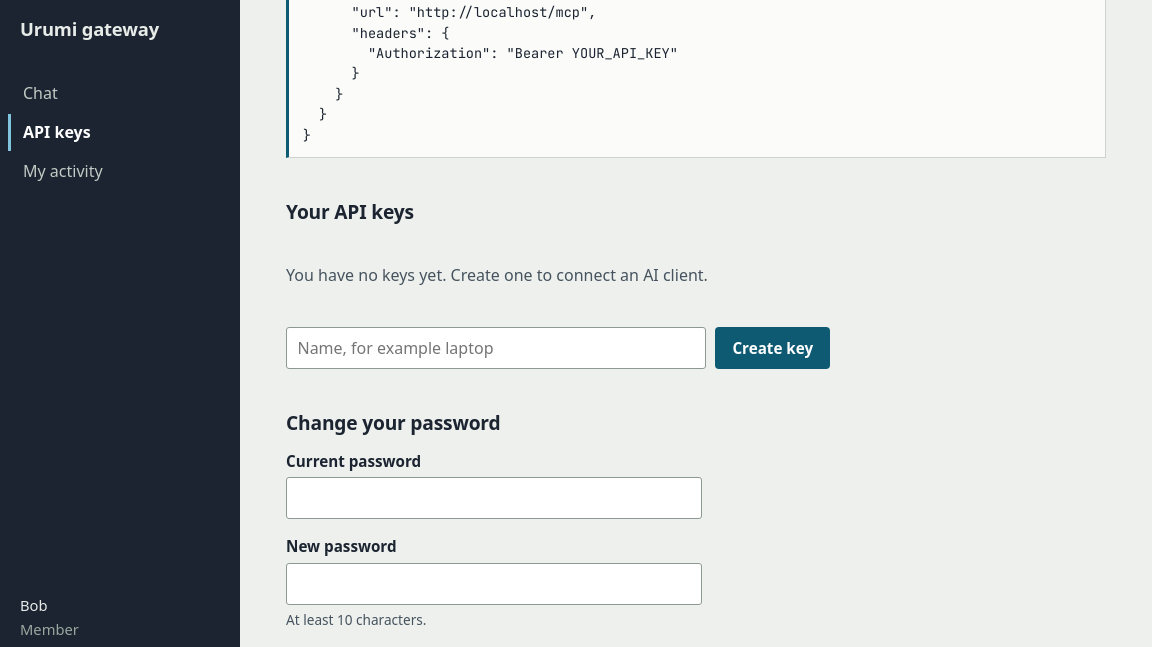
Test: api keys page › gives copy-ready connection steps with a placeholder, and reveals a new key once
(page scrolled)
Type "laptop" into the field named "Name for the new key" at (496, 348), box [286,327,706,369]
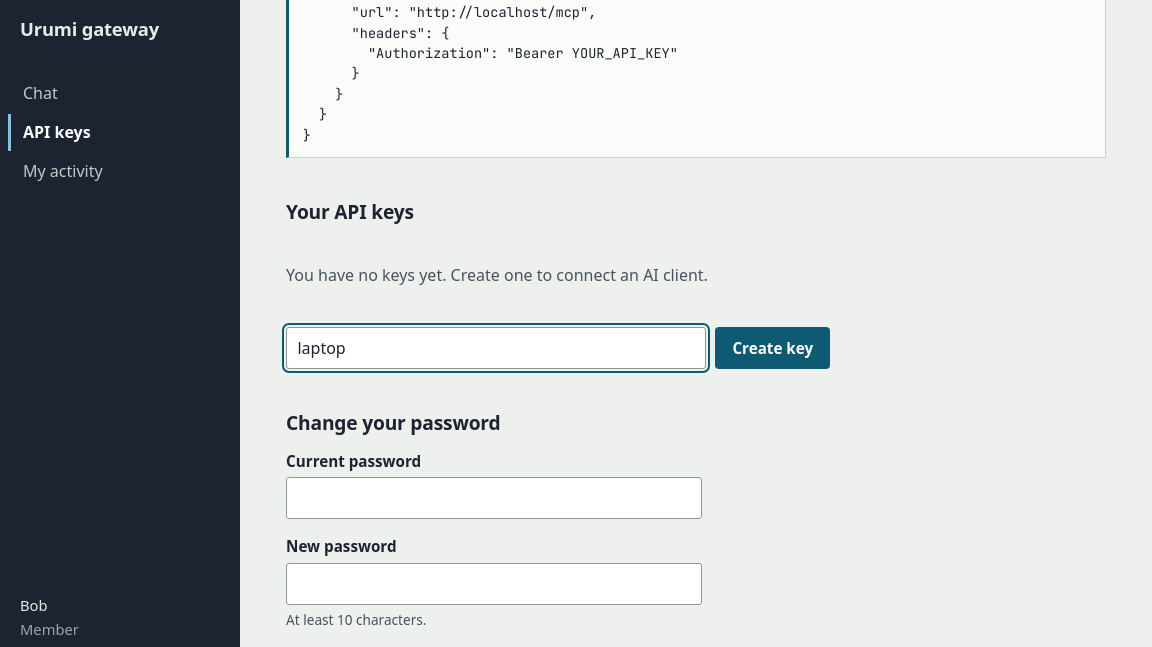
Click the button "Create key" at (773, 348), box [715,327,830,369]
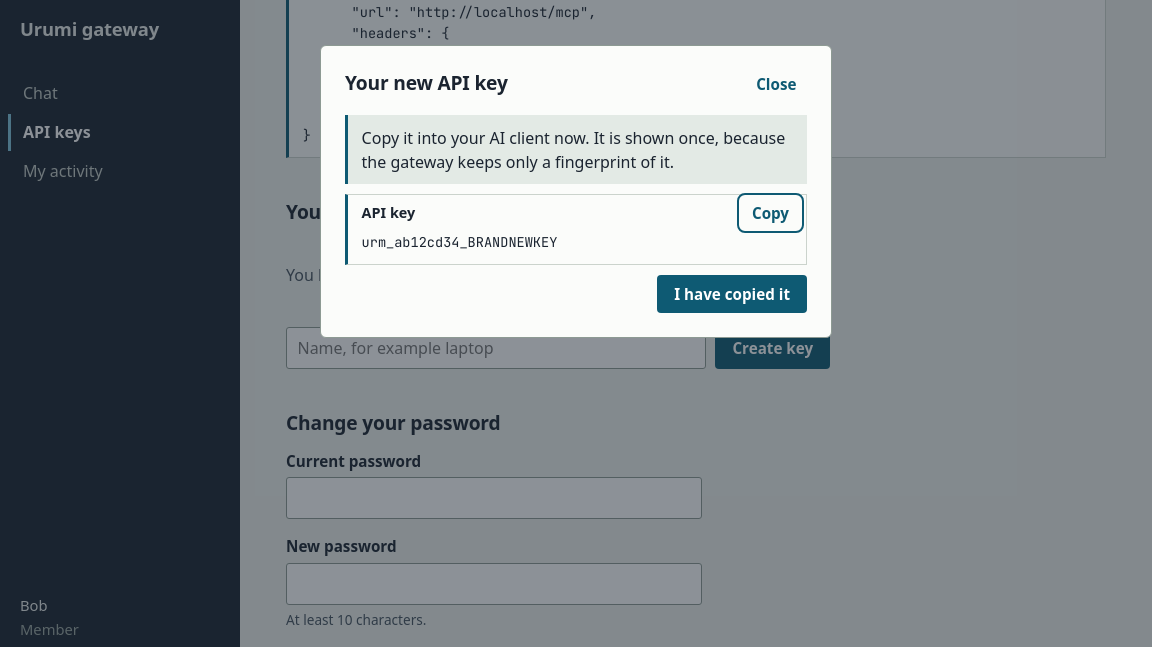
Now the text "urm_ab12cd34_BRANDNEWKEY" is shown, box [362,233,557,251]
Click the button "I have copied it" at (732, 294), box [657,275,807,313]
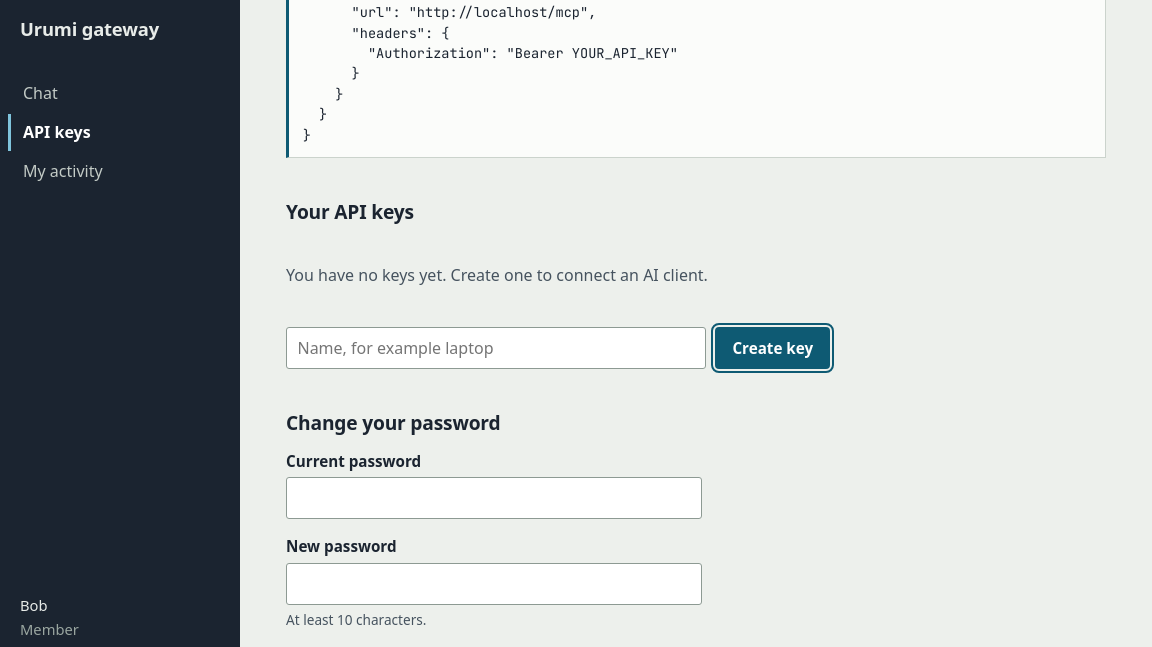
Now the text "urm_ab12cd34_BRANDNEWKEY" is gone
